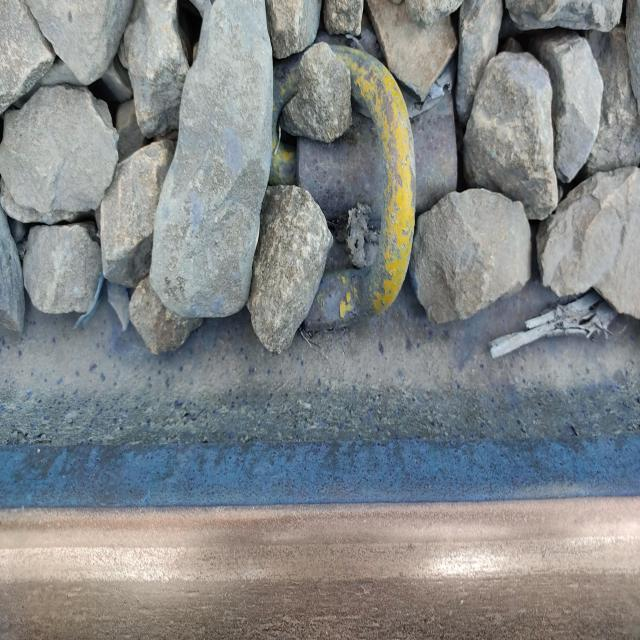Good Fasteners: (269, 45, 457, 329)
